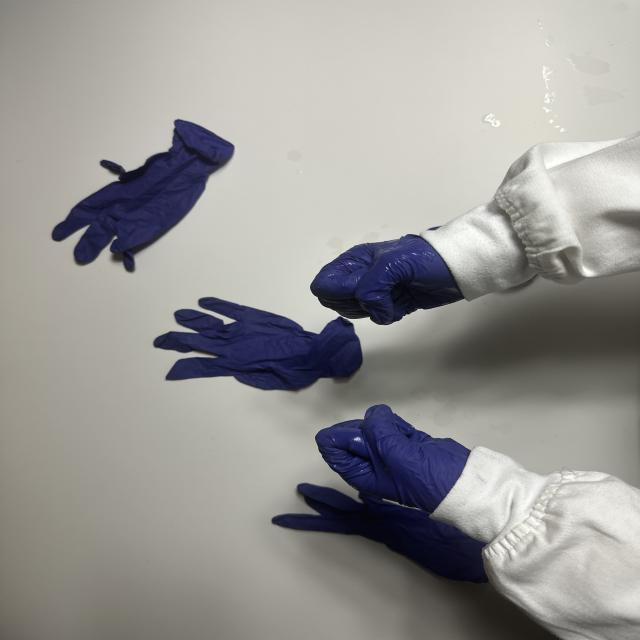gloves_contaminated: (316, 404, 470, 512), (311, 235, 464, 325)
